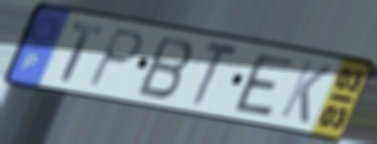B: (134, 33, 197, 102)
E: (232, 52, 298, 120)
K: (276, 58, 335, 127)
P: (83, 26, 148, 90)
T: (189, 39, 243, 110), (58, 20, 106, 85)
